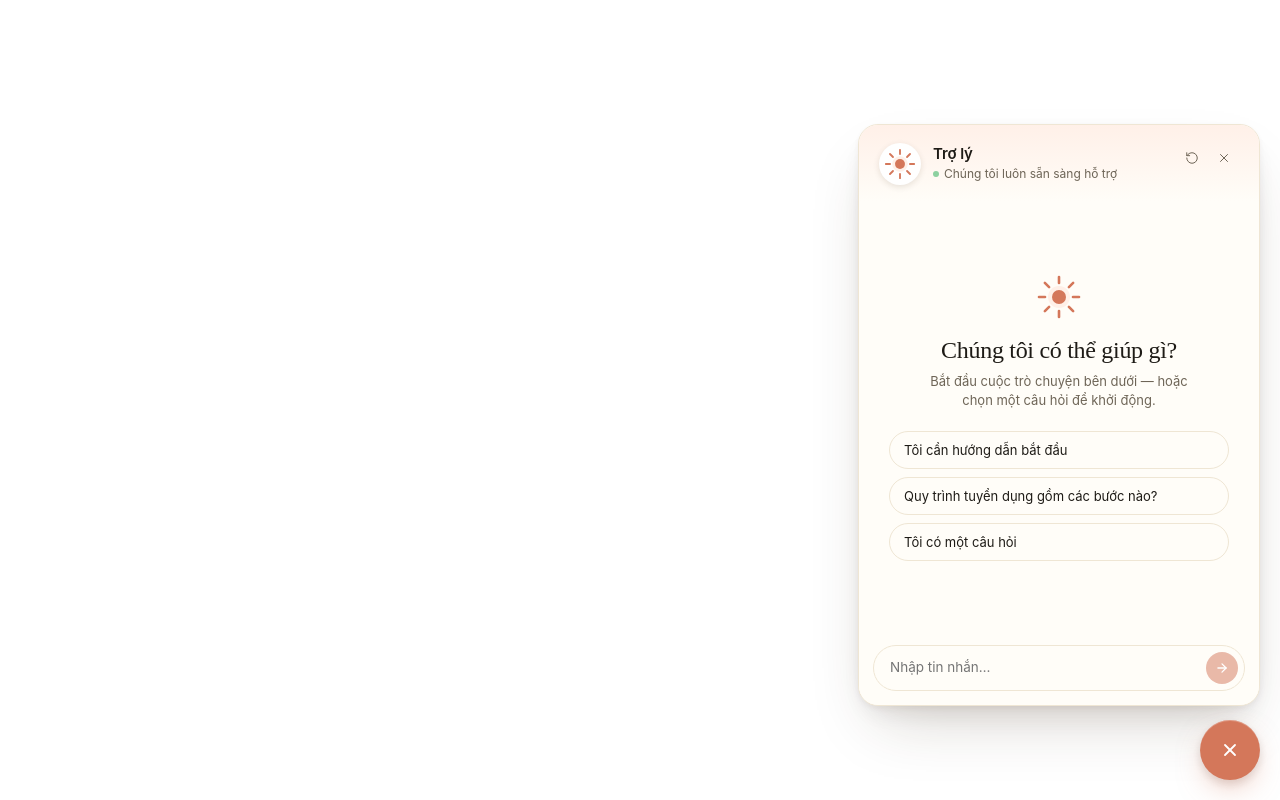
Test: AgentChatWidget — typewriter integration › shows assistant message content progressively via typewriter
This screenshot has width=1280, height=800.
Type "hi" into the text box named "Chat message input" at (1046, 668), box [890,652,1202,684]
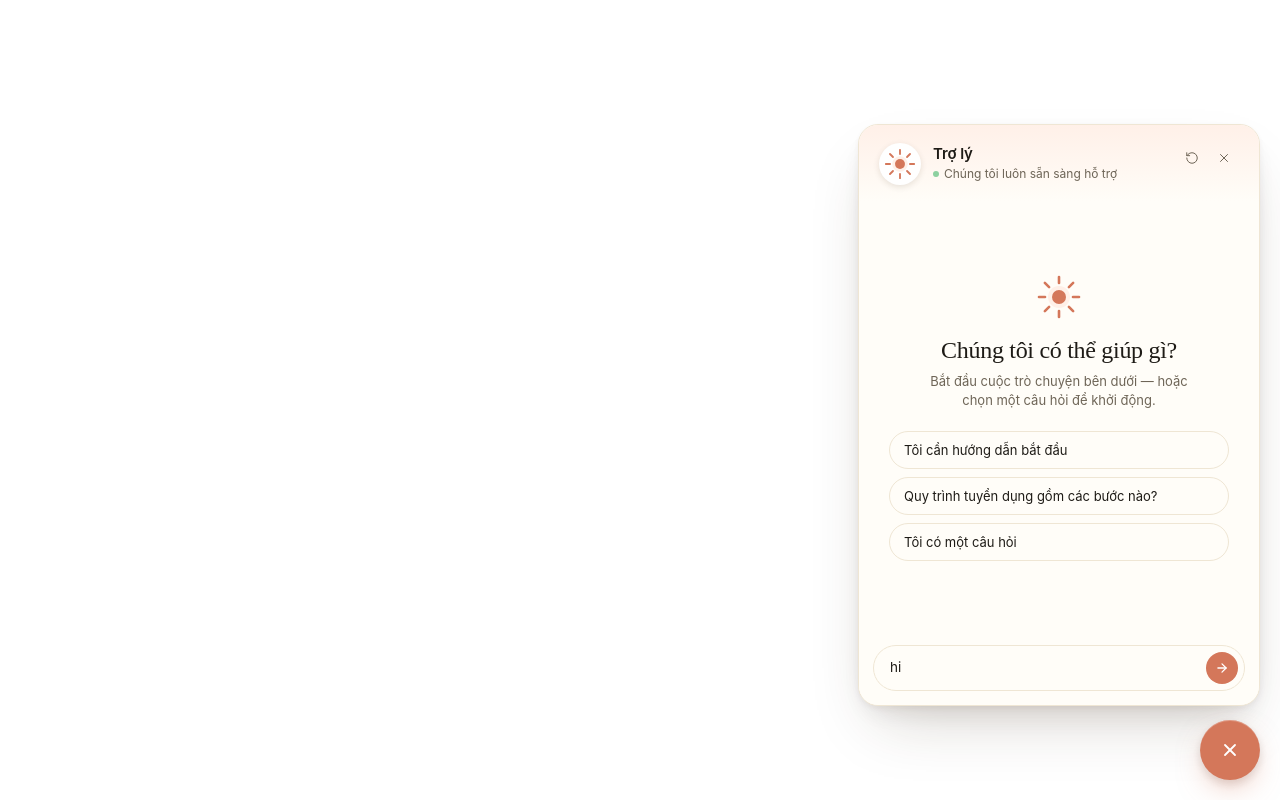
Click the button named "Send message" at (1222, 668), box [1206,652,1238,684]
Wait 550 ms
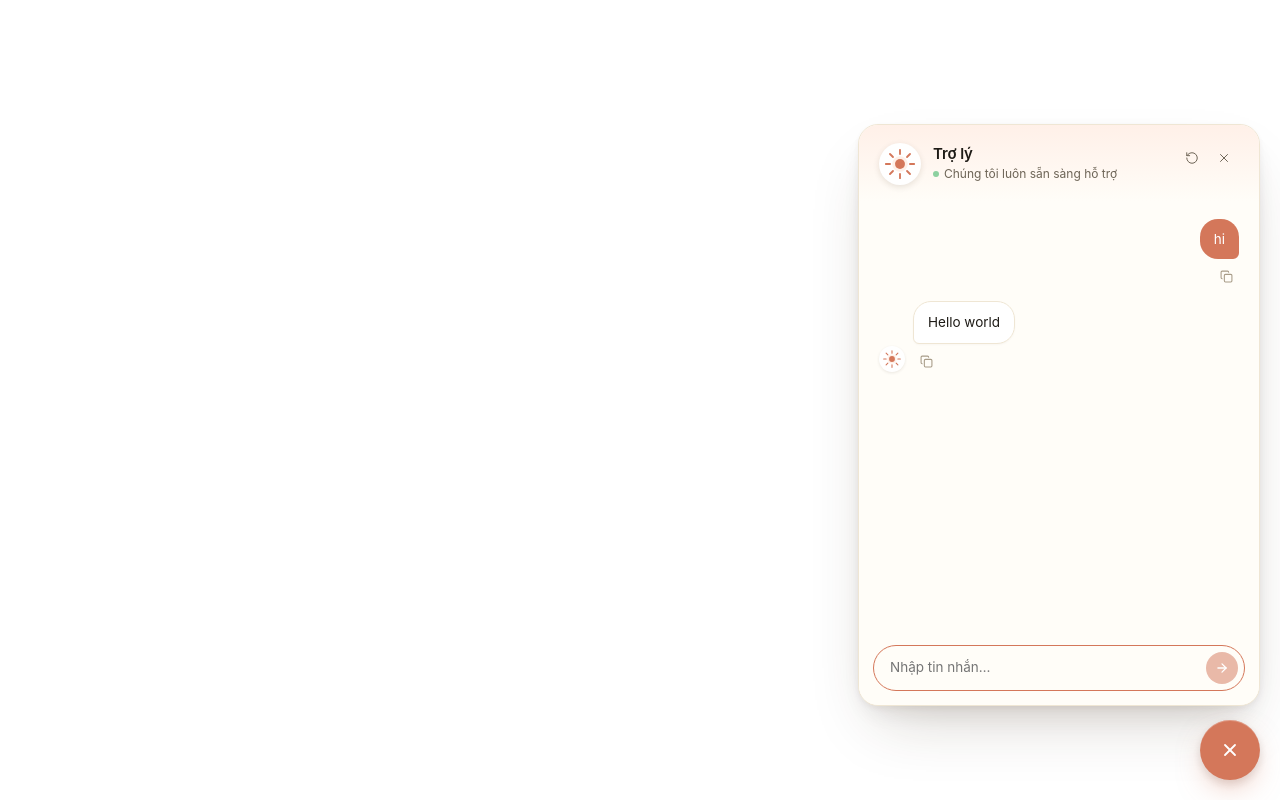
Check: the element showing "Hello world" is shown, box [928,312,1000,333]
